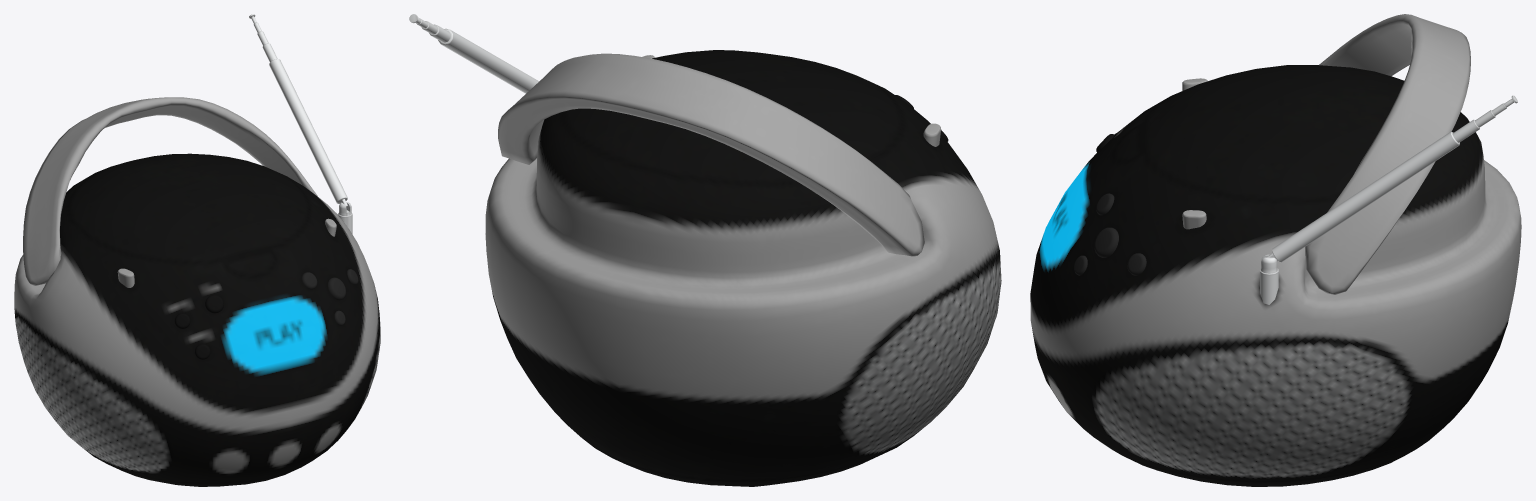
Rendered from BoomBox.glb.
3 views of the same model, side by side, from view 1: azimuth 30°, elevation 25°; view 2: azimuth 150°, elevation 25°; view 3: azimuth 270°, elevation 25° (orthographic). The views are drawn at different scales.
Visible parts, largest first — view 1: BoomBox; view 2: BoomBox; view 3: BoomBox.
Part boxes in pixels (x1,y1,x2,y2): BoomBox: (14,14,380,486); BoomBox: (409,14,1001,486); BoomBox: (1030,14,1521,486).
Size of the model in its own units: 0.0198 by 0.0195 by 0.0202.
Materials: 1 (1 with a texture image).
